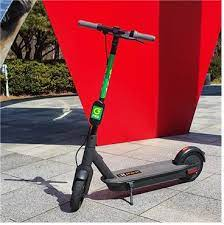kick_board: (71, 20, 205, 212)
kick_body: (110, 164, 174, 184)
kick_handler: (78, 20, 156, 45)
kick_neck: (82, 48, 117, 160)
kick_wheel: (70, 169, 93, 209), (177, 146, 204, 180)
